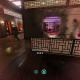Character: (12, 25, 20, 41), (58, 26, 60, 32)
Head: (12, 26, 15, 28), (59, 26, 60, 28)
